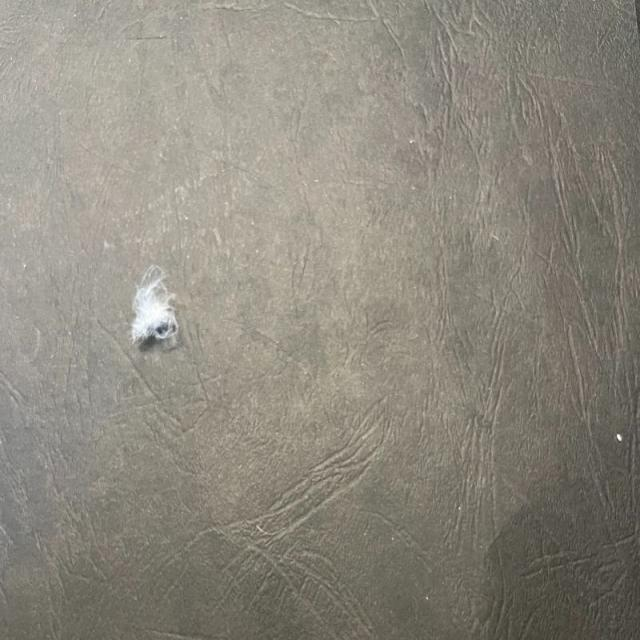feather: (128, 264, 181, 348)
